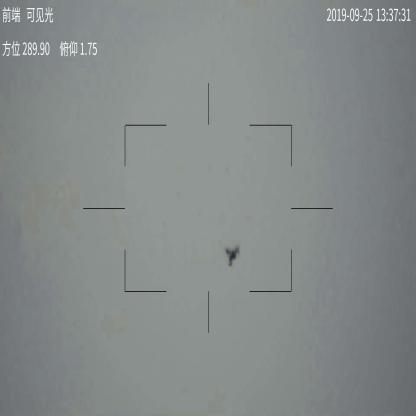uav: (223, 245, 241, 268)
